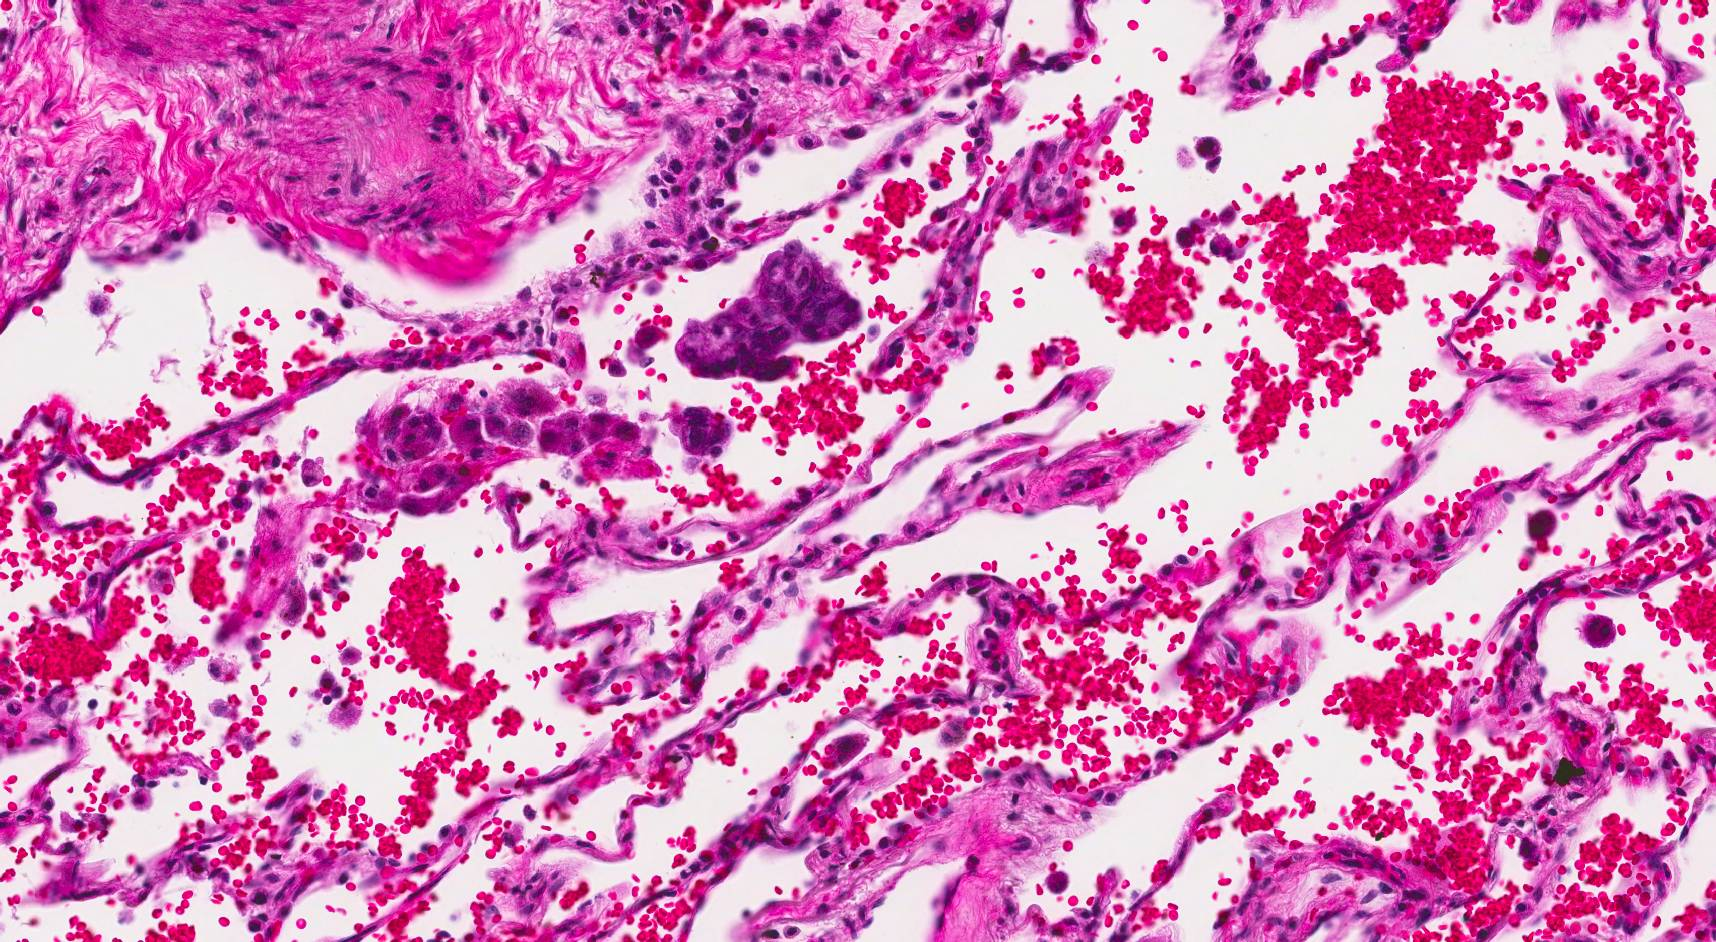stas: (678, 237, 868, 384), (671, 401, 736, 454)
